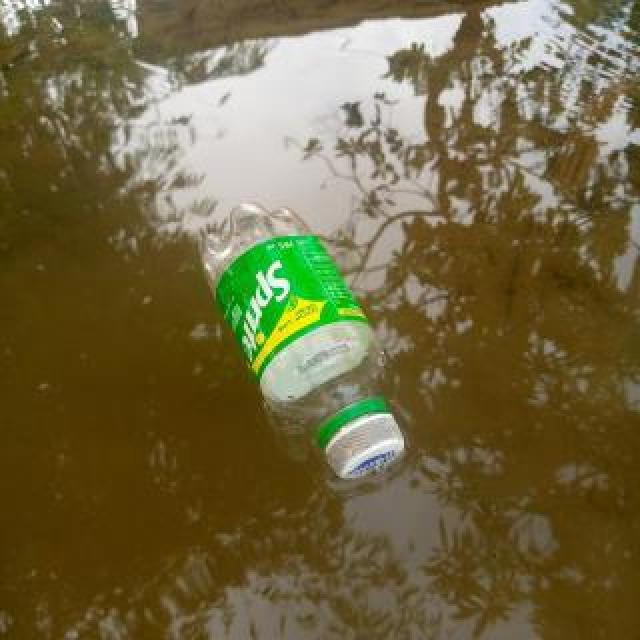bottle: (199, 198, 407, 482)
